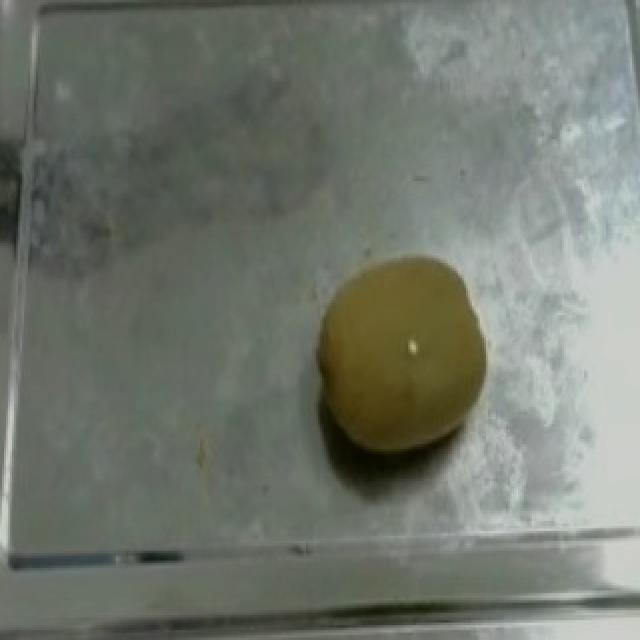Fruit: (304, 243, 500, 466)
